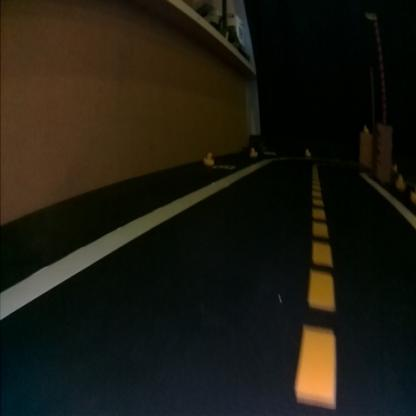Duckie: (204, 152, 215, 166), (396, 176, 406, 189), (251, 147, 258, 157), (410, 189, 415, 202), (364, 124, 370, 132), (306, 149, 312, 156)
